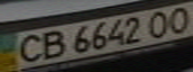2: (121, 14, 148, 44)
4: (106, 16, 130, 47)
6: (69, 22, 93, 54), (90, 19, 112, 51)
B: (33, 28, 69, 61)
C: (9, 33, 48, 65)
O: (160, 4, 193, 34), (142, 9, 175, 38)
